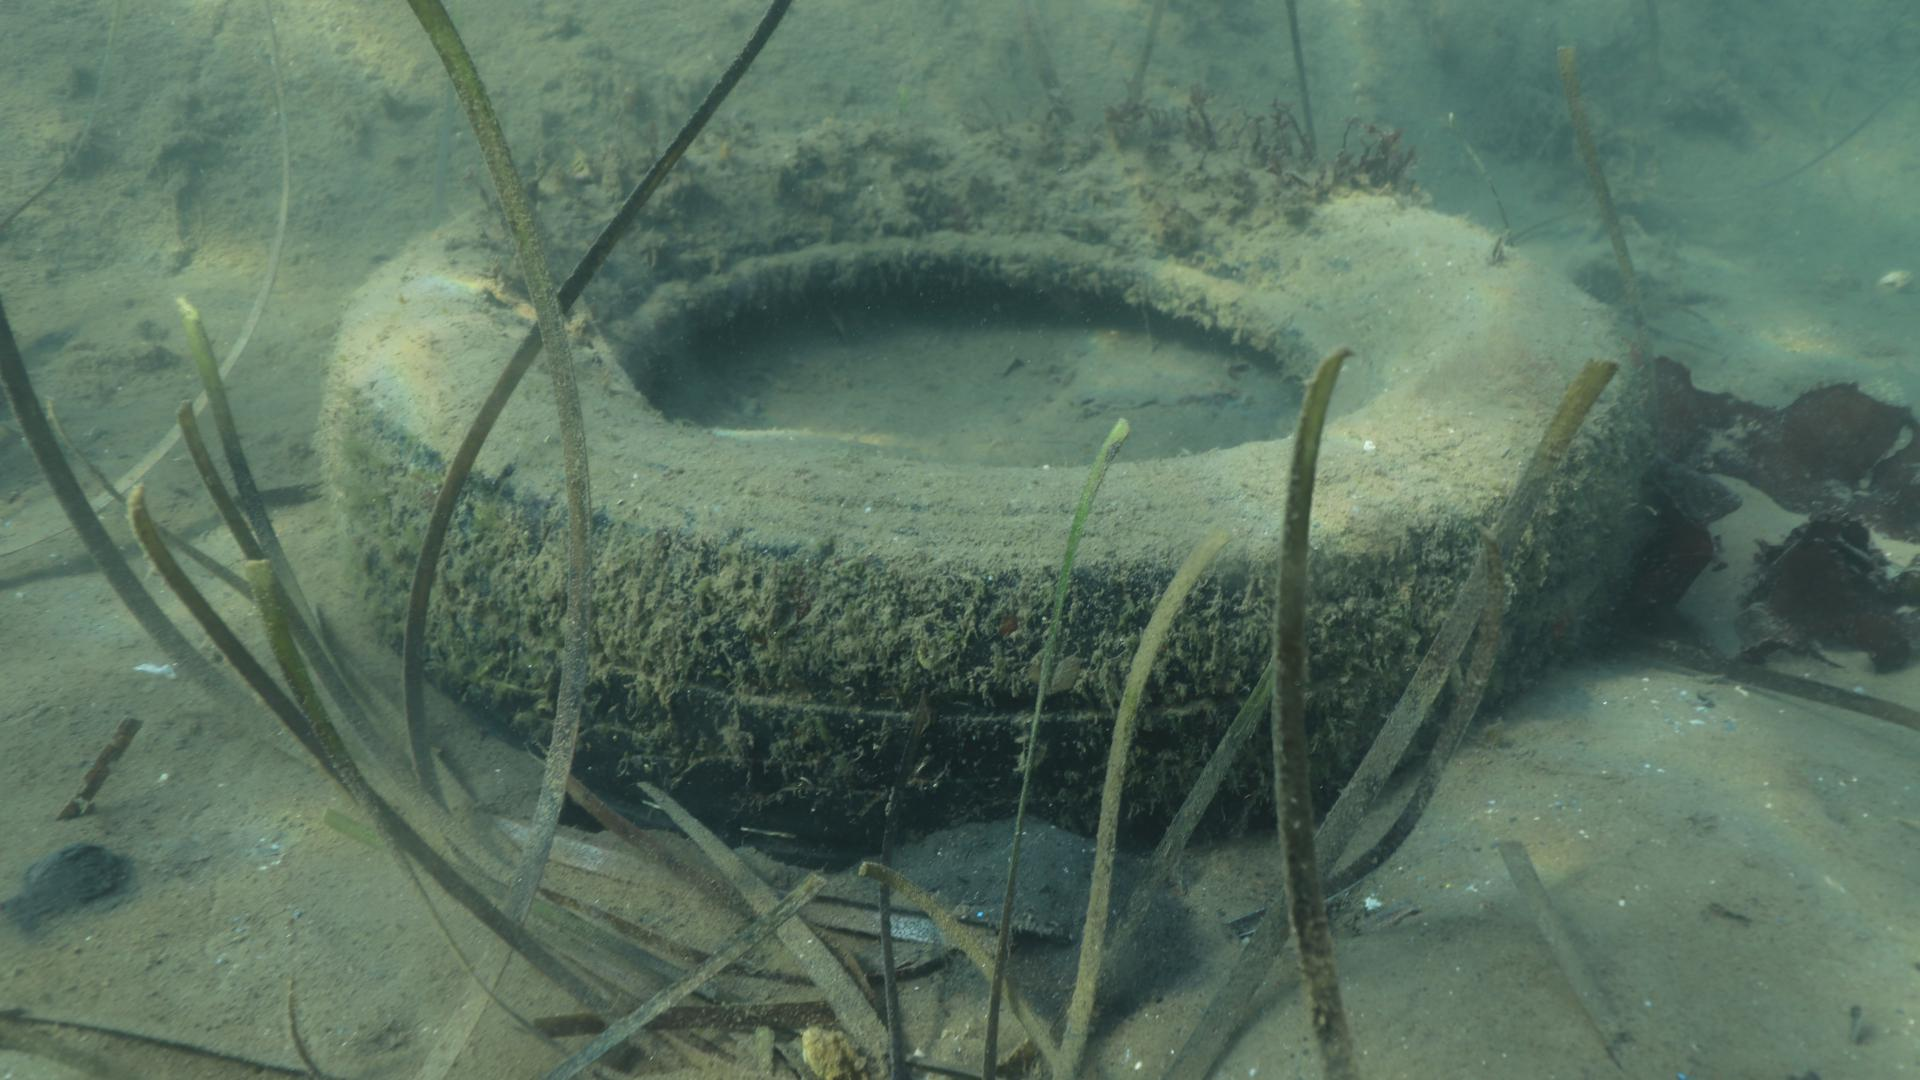tire: (338, 133, 1652, 851)
